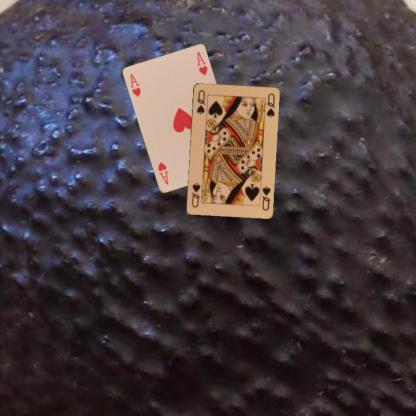Ah: (128, 71, 142, 98)
Qs: (194, 87, 206, 116), (260, 183, 272, 212)
